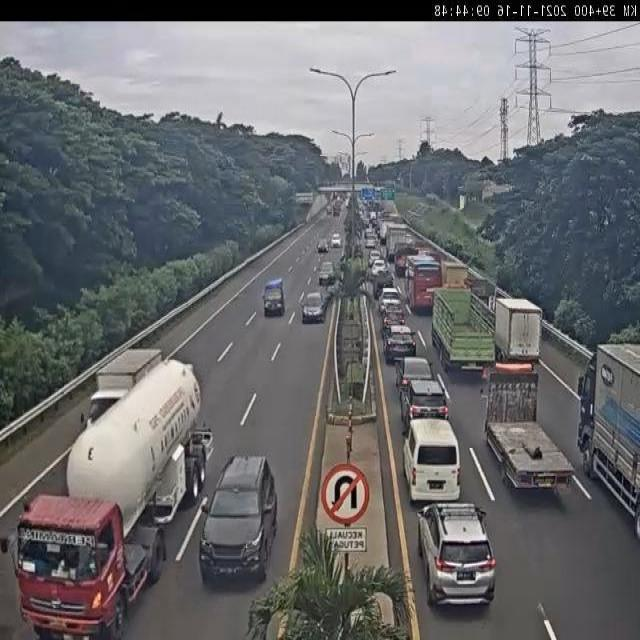Car: (198, 454, 278, 584), (416, 502, 496, 607), (398, 377, 448, 432), (397, 356, 432, 397), (383, 326, 418, 364), (262, 277, 286, 317), (301, 291, 325, 323), (379, 286, 401, 310), (318, 261, 336, 285), (357, 200, 370, 230), (371, 259, 386, 276), (369, 250, 381, 265), (317, 239, 329, 253), (331, 232, 341, 248), (365, 237, 376, 250)
Truck: (9, 330, 207, 640), (481, 363, 575, 494), (581, 344, 640, 548), (432, 288, 496, 378), (494, 296, 543, 367), (386, 228, 414, 265), (440, 261, 469, 292), (347, 193, 361, 214), (366, 198, 381, 216), (353, 240, 363, 260), (370, 216, 380, 234), (328, 204, 336, 216), (349, 191, 356, 200), (343, 199, 348, 210)
Van: (403, 419, 461, 505)
